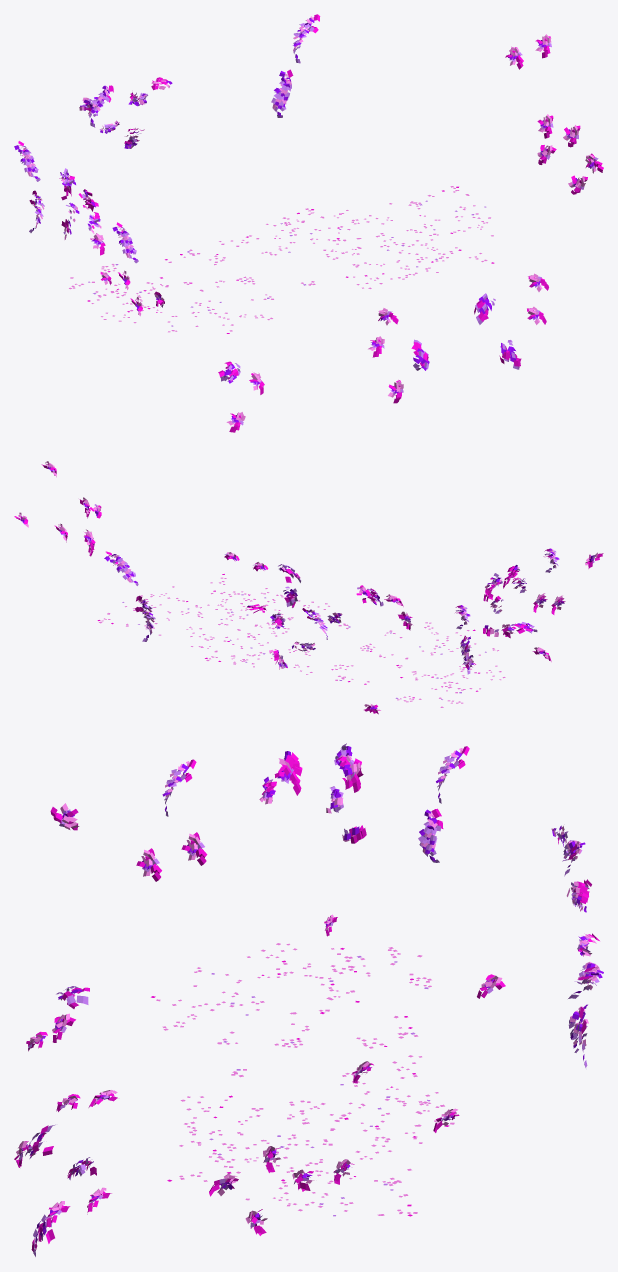
File: Lower_Plaza_Leaves.fbx
3 views of the same model, one above another, from view 1: azimuth 30°, elevation 25°; view 2: azimuth 150°, elevation 25°; view 3: azimuth 270°, elevation 25° (orthographic). The views are drawn at different scales.
Parts seen in each view (by area): view 1: Lower_Plaza_Leaves; view 2: Lower_Plaza_Leaves; view 3: Lower_Plaza_Leaves.
Part boxes in pixels (x1,y1,x2,y2): Lower_Plaza_Leaves: [14, 14, 603, 432]; Lower_Plaza_Leaves: [14, 461, 603, 714]; Lower_Plaza_Leaves: [14, 743, 603, 1256].
Size of the model in its own units: 368 by 147 by 266.
